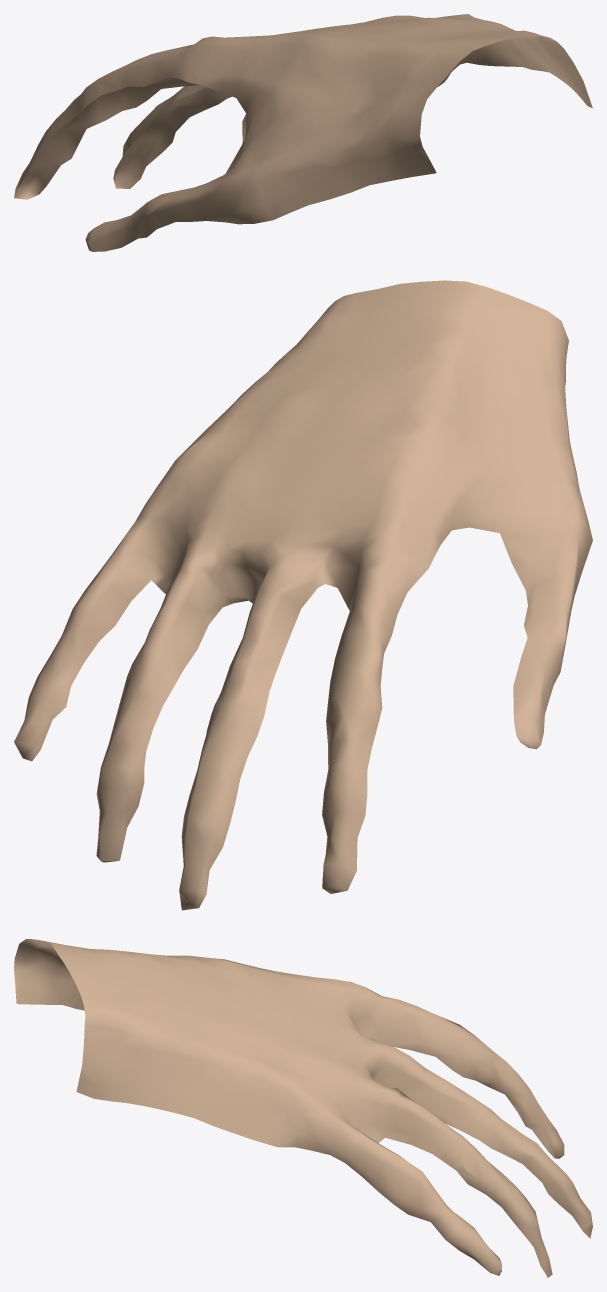
3 views of the same model, one above another, from view 1: azimuth 30°, elevation 25°; view 2: azimuth 150°, elevation 25°; view 3: azimuth 270°, elevation 25° (orthographic). The views are drawn at different scales.
Parts seen in each view (by area): view 1: 右侧手背筋膜; view 2: 右侧手背筋膜; view 3: 右侧手背筋膜.
Boxes of the visible parts, left/top/right/bottom form: 右侧手背筋膜: left=14, top=14, right=592, bottom=251; 右侧手背筋膜: left=14, top=280, right=592, bottom=910; 右侧手背筋膜: left=14, top=939, right=592, bottom=1277.
Size of the model in its own units: 0.1623 by 0.1369 by 0.2307.
